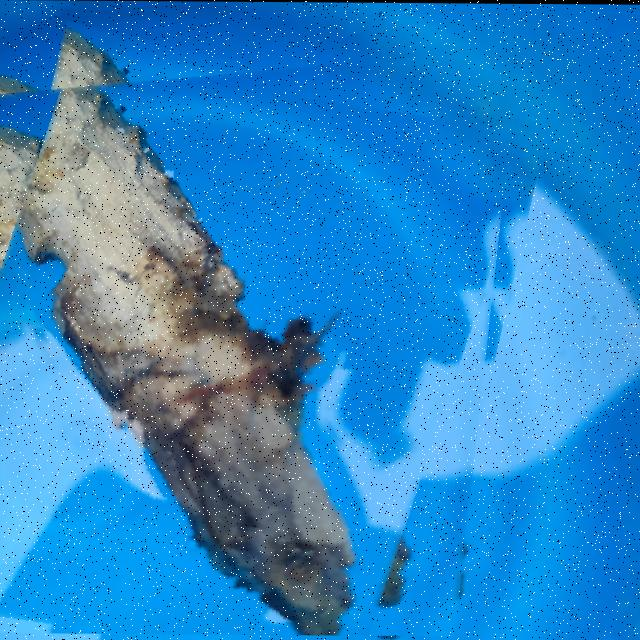wood: (0, 44, 520, 636)
